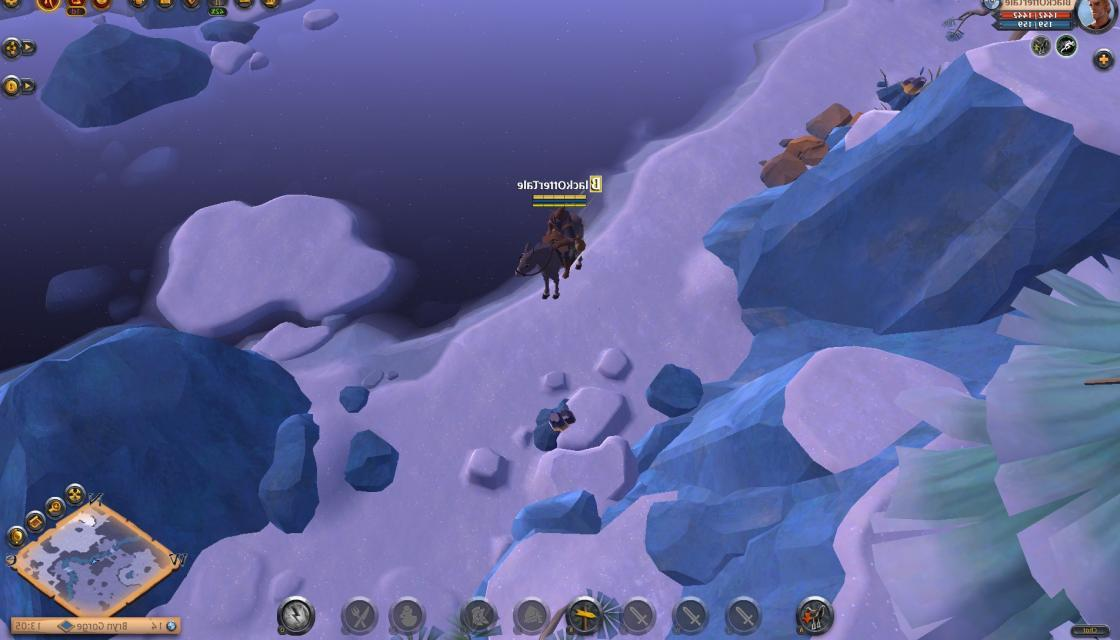copperore: (872, 67, 936, 111), (530, 394, 586, 444)
limestone: (762, 133, 832, 189), (802, 97, 864, 142)
